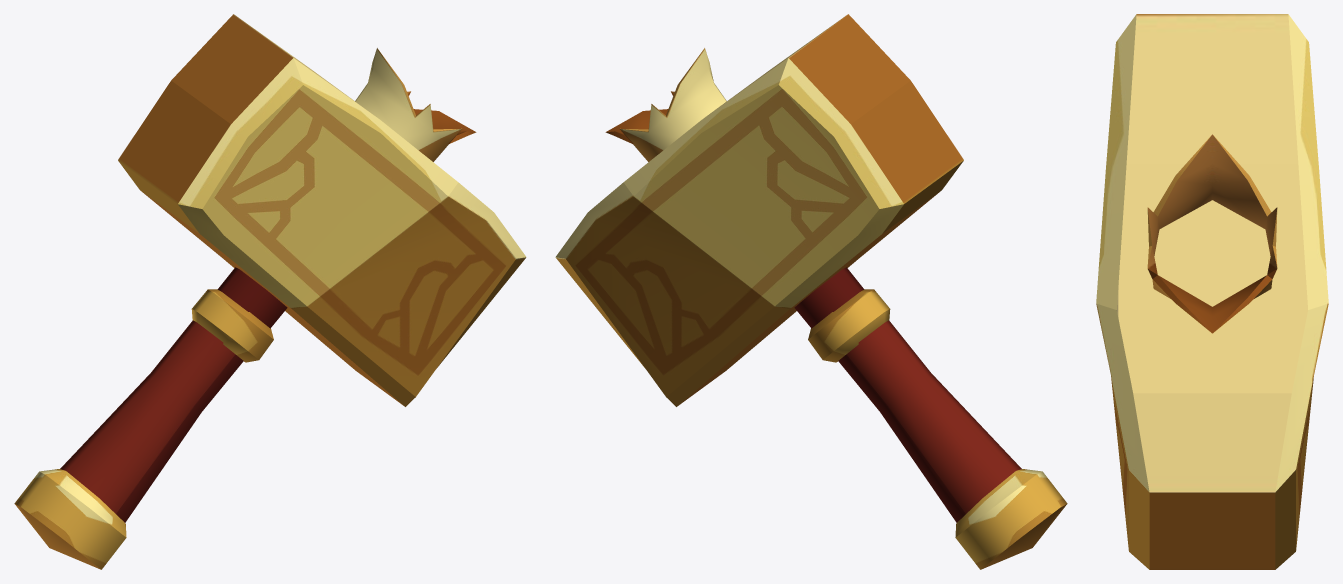
The model's file is Gold_04.FBX.
The picture shows the model from 3 angles, left to right: view 1: azimuth 30°, elevation 25°; view 2: azimuth 150°, elevation 25°; view 3: azimuth 270°, elevation 25°; orthographic projection. The views are drawn at different scales.
Parts seen in each view (by area): view 1: Gold_04; view 2: Gold_04; view 3: Gold_04.
Part boxes in pixels (x1=…): Gold_04: x1=14, y1=14, x2=526, y2=569; Gold_04: x1=555, y1=14, x2=1067, y2=569; Gold_04: x1=1096, y1=14, x2=1328, y2=569.
Bounding box in the file's own units: 71.61 × 69.66 × 23.73.
